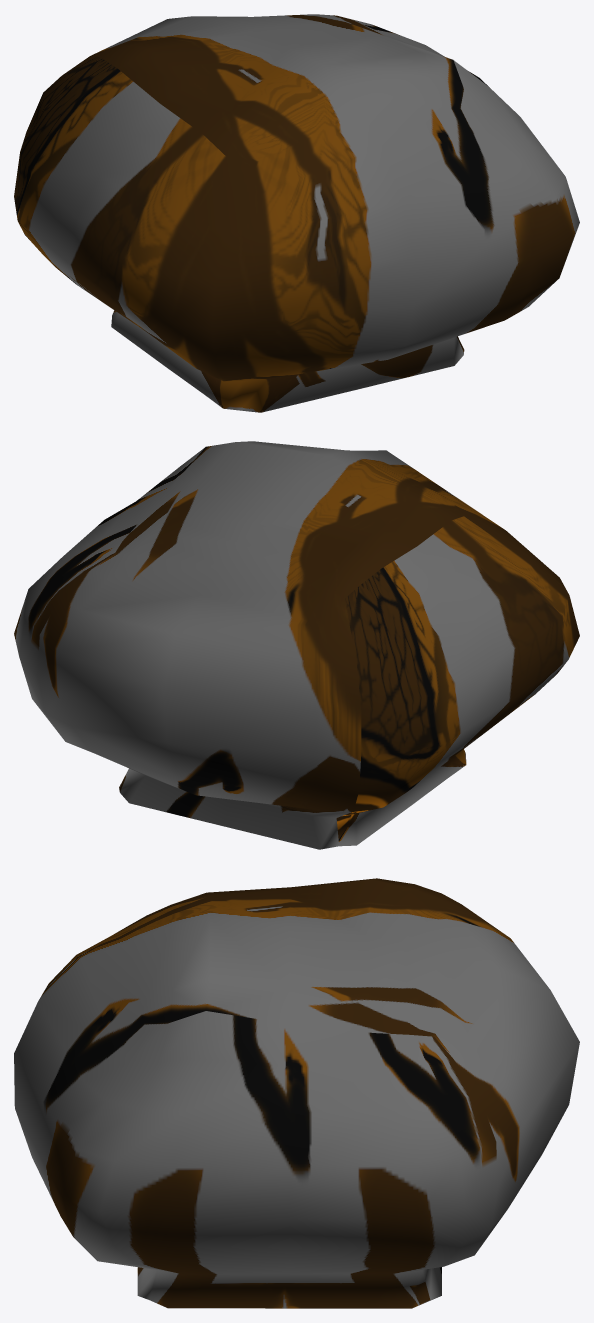
File: Bush.fbx
3 views of the same model, one above another, from view 1: azimuth 30°, elevation 25°; view 2: azimuth 150°, elevation 25°; view 3: azimuth 270°, elevation 25° (orthographic). The views are drawn at different scales.
Visible parts, largest first — view 1: pCube1; view 2: pCube1; view 3: pCube1.
Boxes of the visible parts, x1,y1,x2,y2 form: pCube1: (14, 14, 579, 412); pCube1: (14, 441, 579, 849); pCube1: (14, 878, 579, 1308).
Size of the model in its own units: 5.37 by 3.47 by 5.38.
